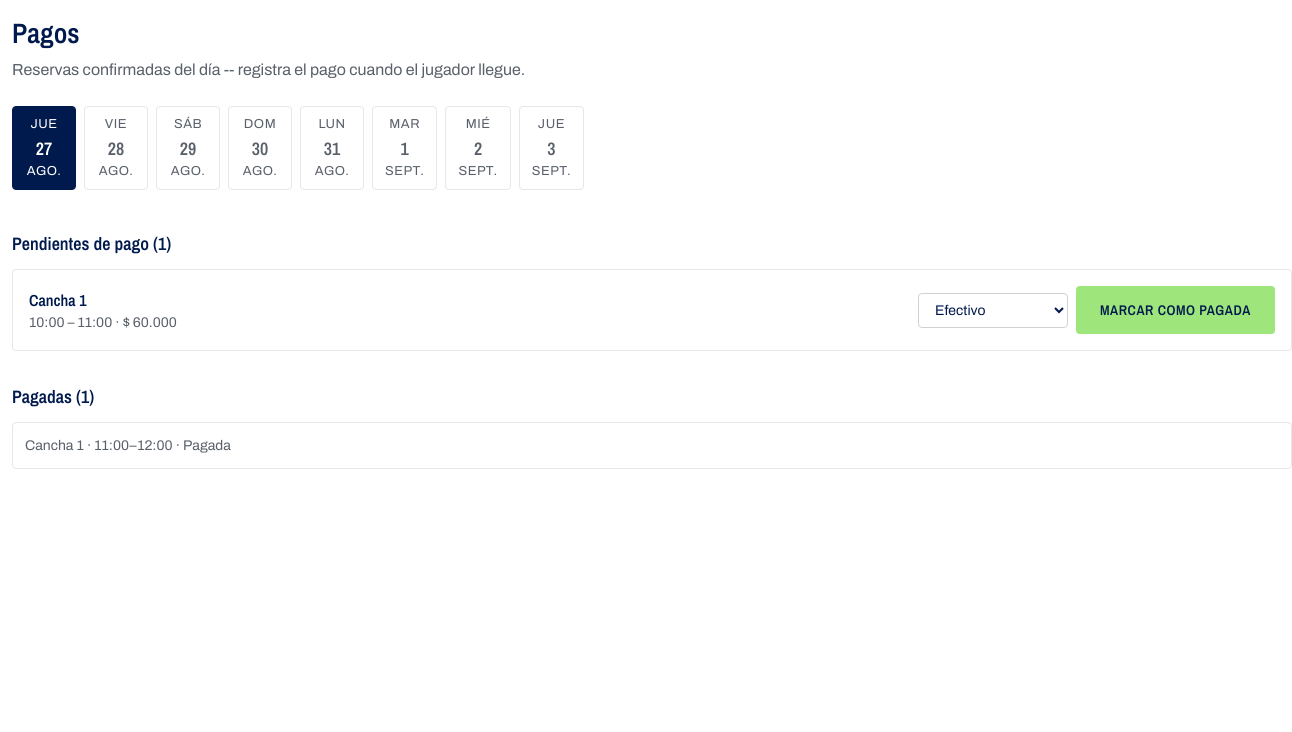
Test: PaymentsQueuePage › records a payment and shows the receipt
This screenshot has width=1292, height=732.
Expected: the heading "Pendientes de pago (1)" is shown, [12, 231, 171, 256]
Step 1. Click the button "Marcar como pagada" → (1176, 310), box [1076, 286, 1275, 334]
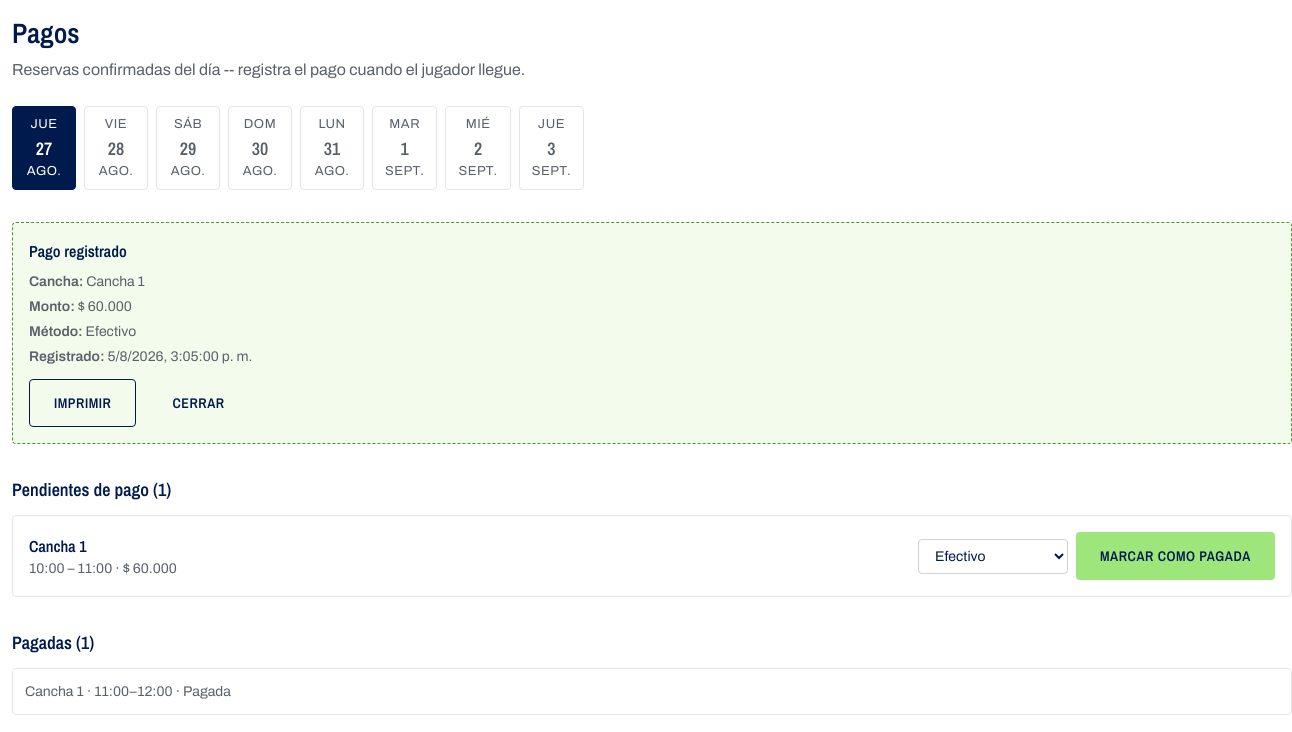
Result: the text "Pago registrado" is shown at [29, 240, 127, 262]
